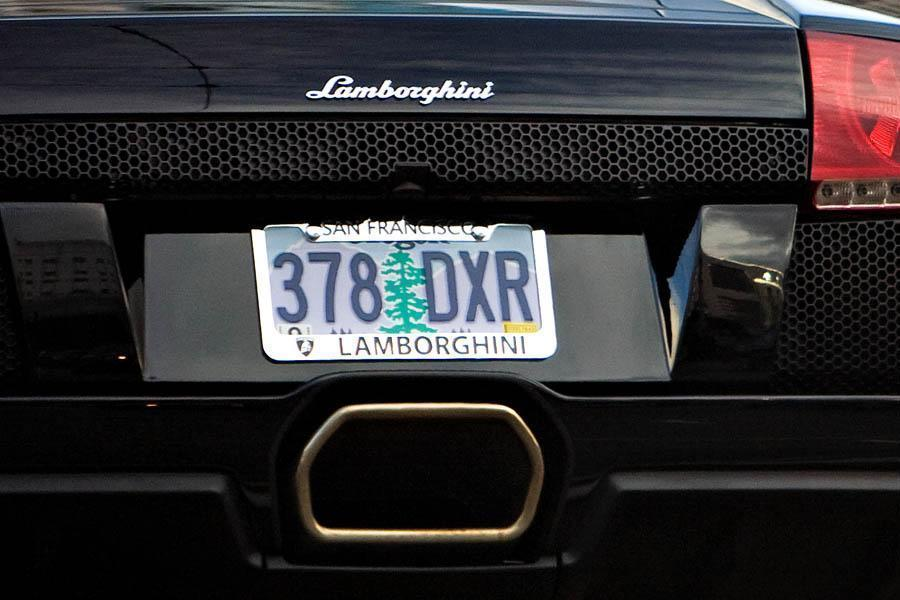placa de veiculo: (219, 204, 592, 381)
